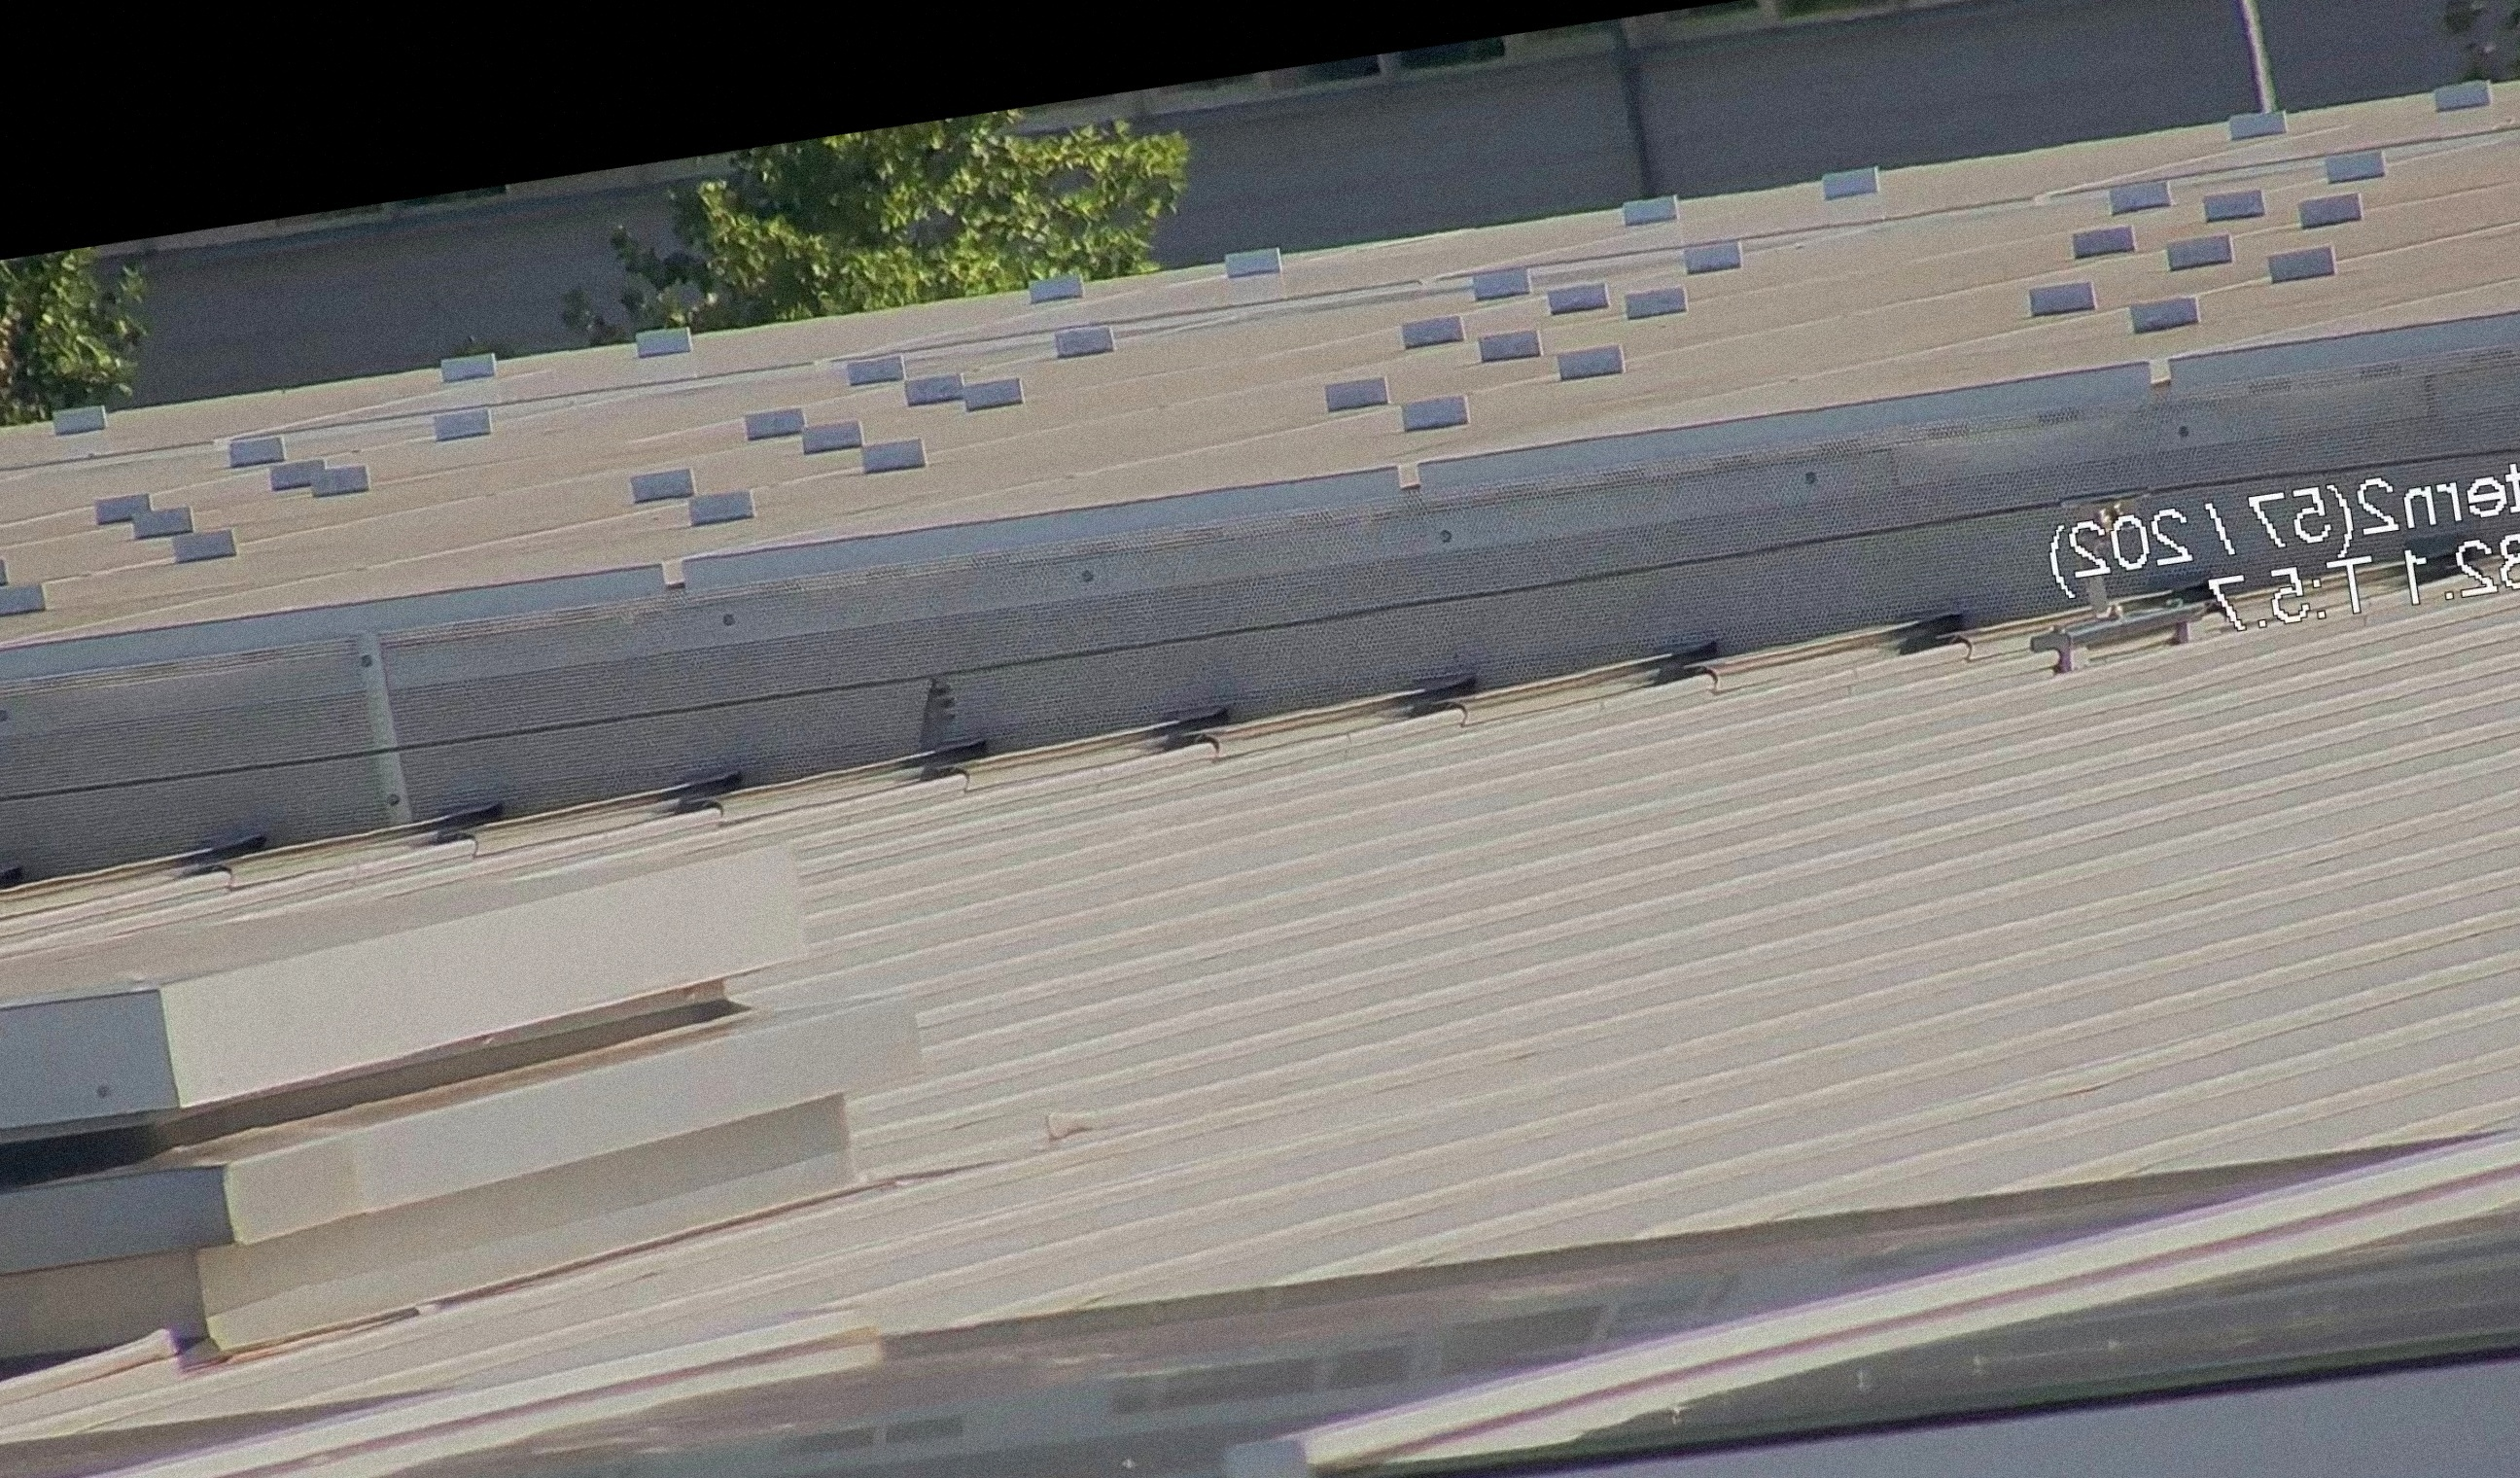Other: (881, 648, 992, 790)
